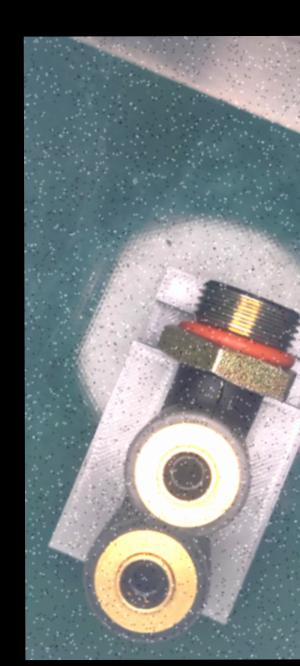craze: (212, 374, 225, 410)
